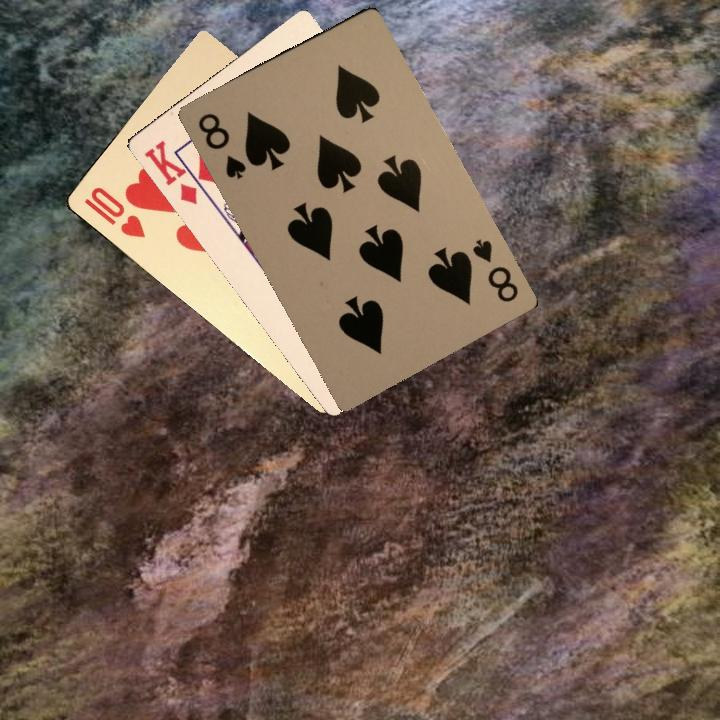10h: (80, 182, 148, 241)
8s: (194, 108, 249, 182), (468, 235, 521, 305)
Kd: (140, 136, 210, 206)
